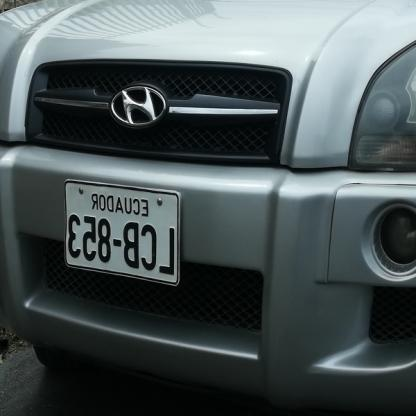Placa: (59, 188, 183, 282)
